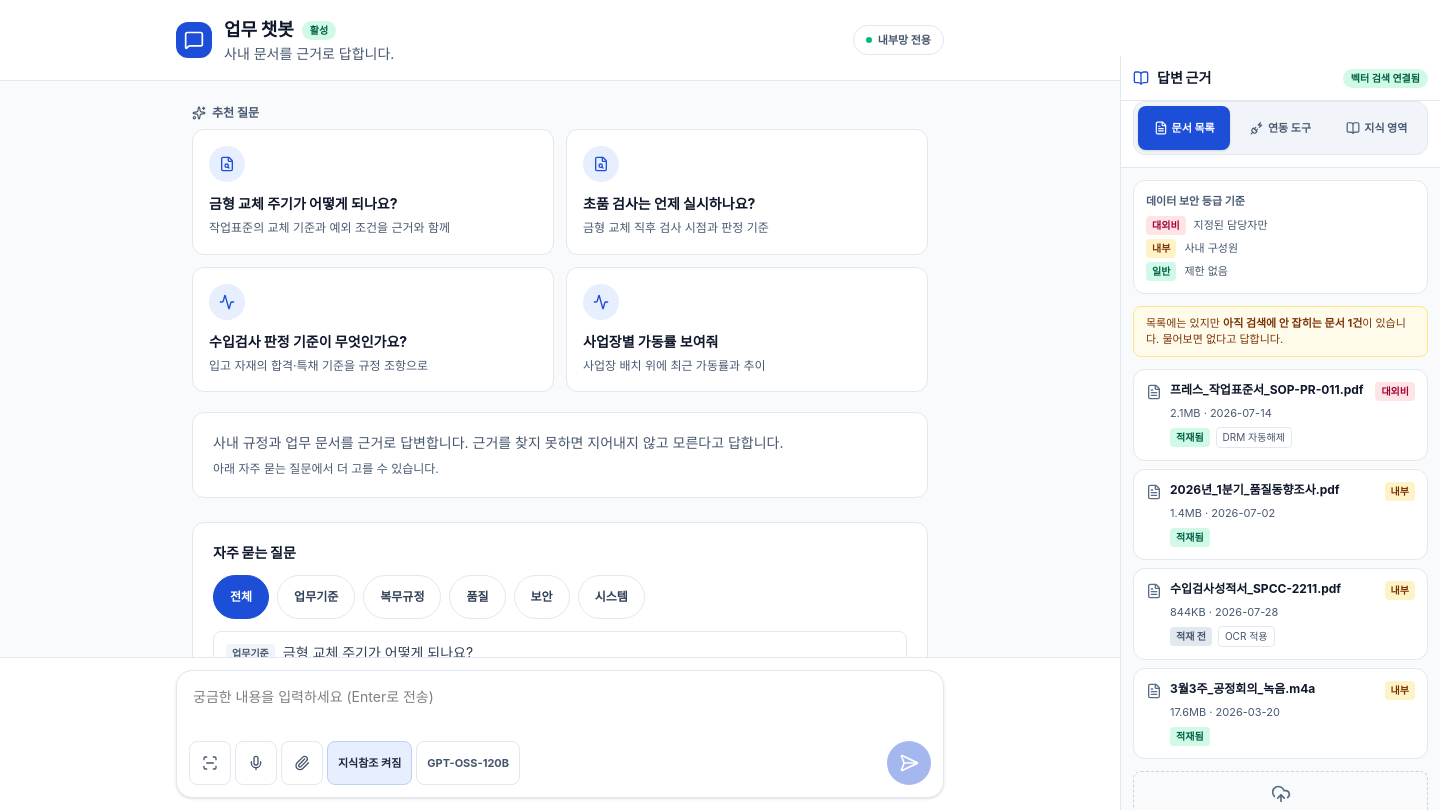
ChatPage › 답변에 근거 문서를 함께 준다
Type "금형 교체 주기 알려줘" into the text box named "질문 입력" at x=560, y=707, box top-left (185, 679), bottom-right (935, 735)
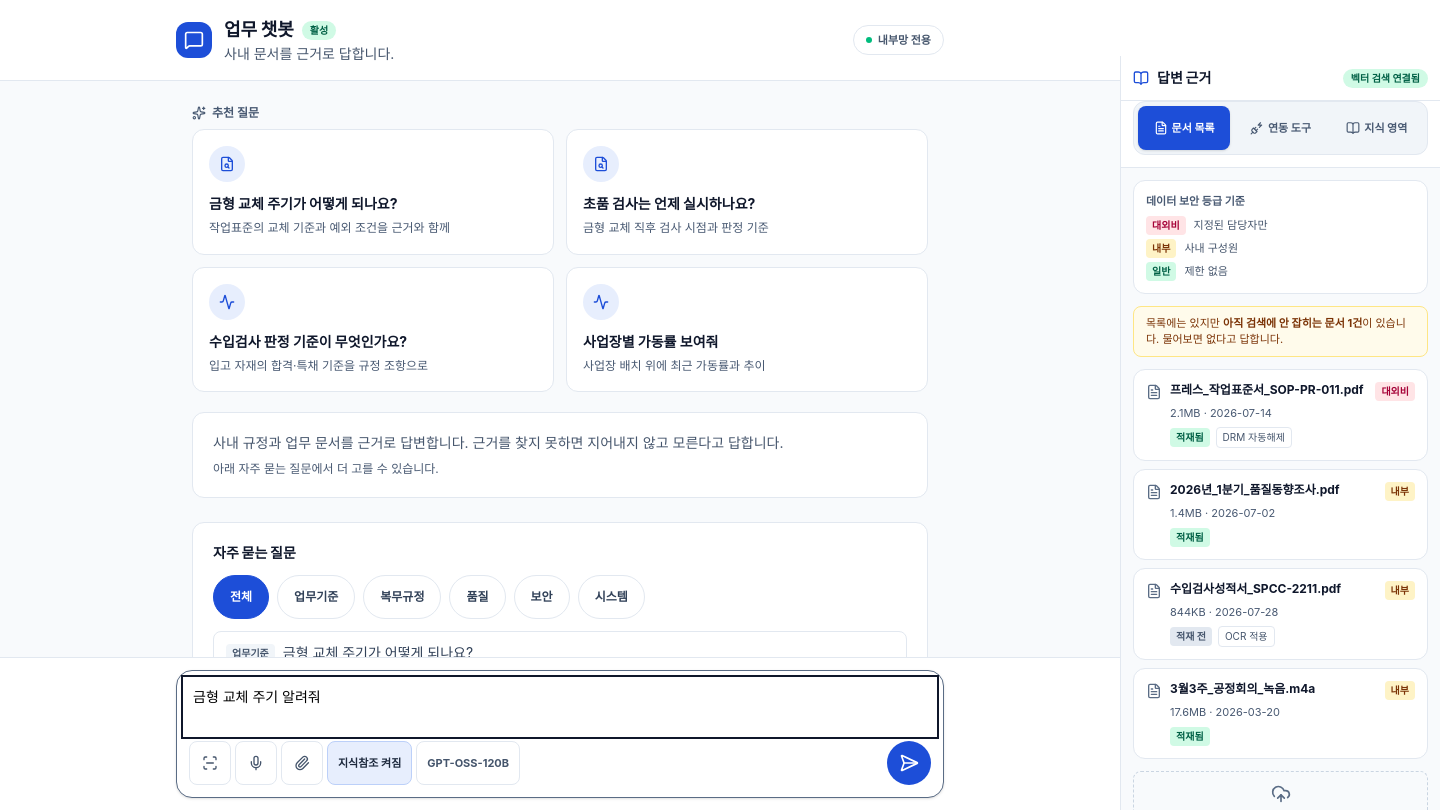
Click the button named "전송" at x=909, y=763, box top-left (887, 741), bottom-right (931, 785)
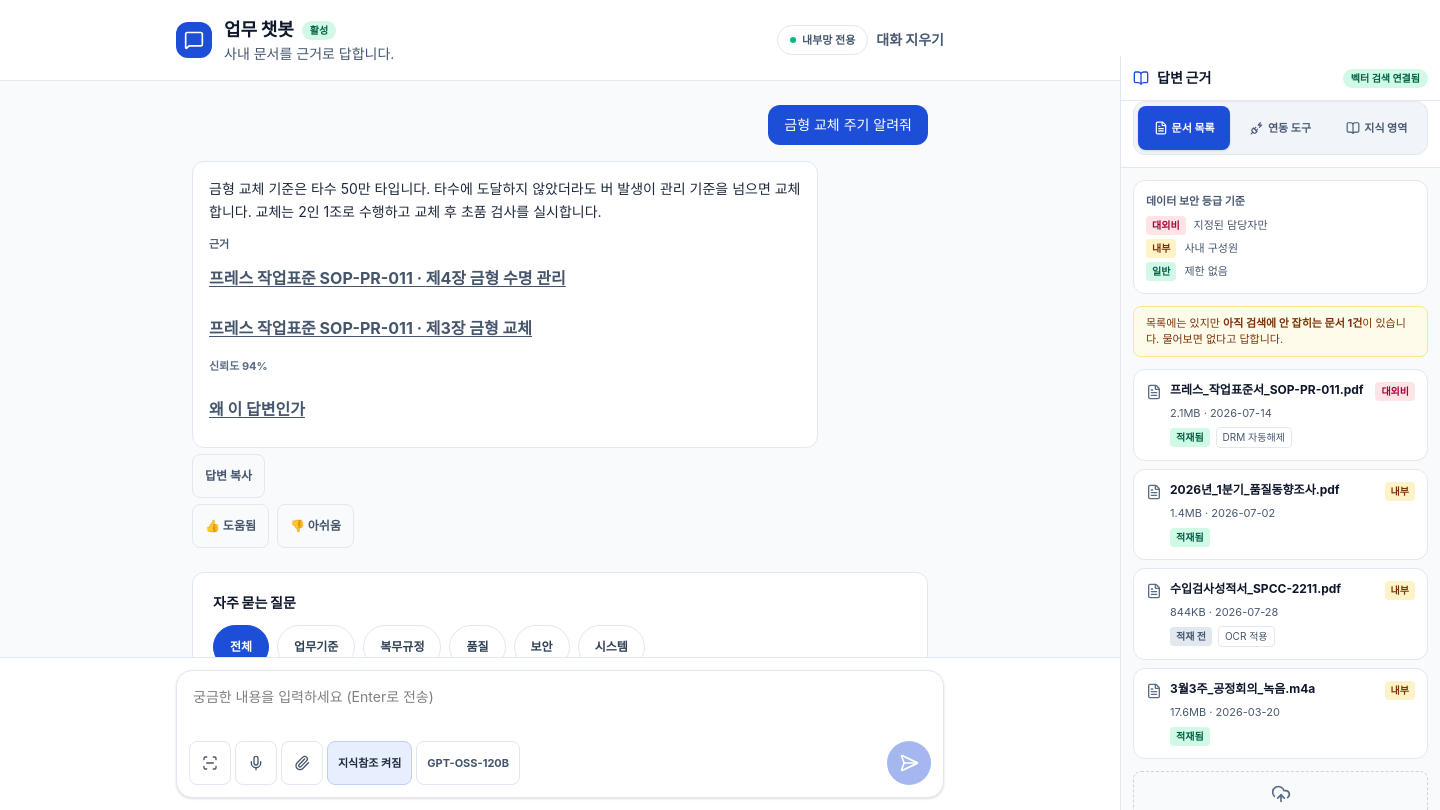
Now the text "타수 50만 타" is shown, box top-left (209, 180), bottom-right (800, 220)
Now the button "프레스 작업표준 SOP-PR-011 · 제4장 금형 수명 관리" is shown, box top-left (209, 256), bottom-right (566, 300)
